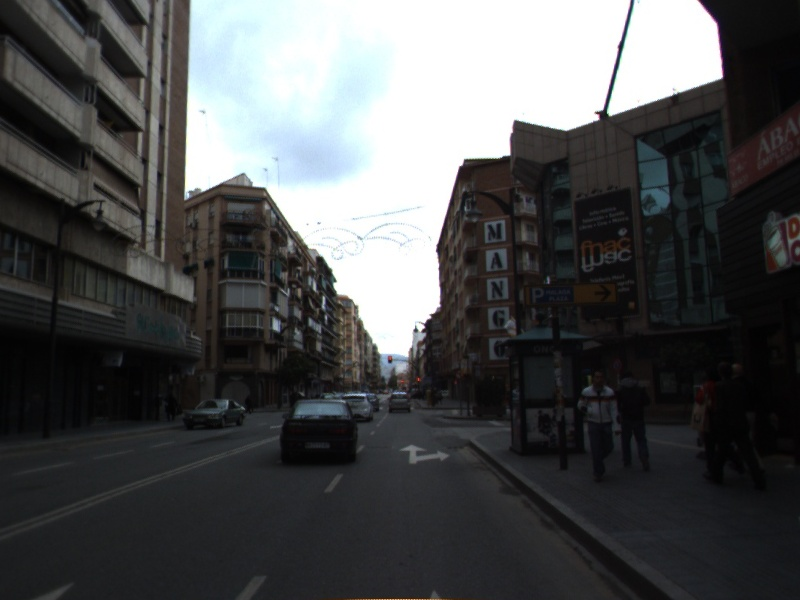STRAIGHT_RIGHT: (397, 443, 452, 466)
